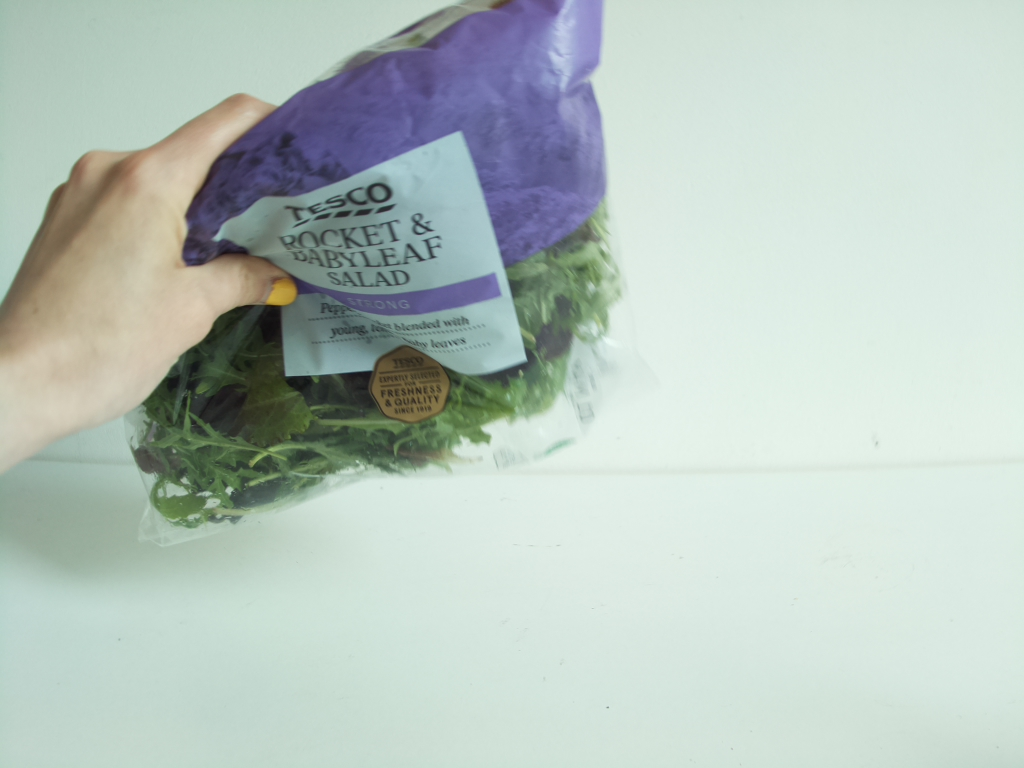salad: (126, 1, 654, 547)
